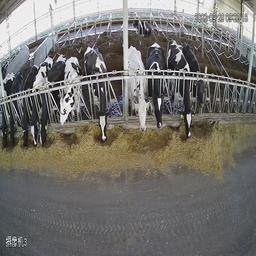cow: (83, 46, 112, 143), (166, 40, 194, 138), (127, 43, 149, 135), (39, 63, 60, 150), (60, 57, 79, 136), (149, 41, 166, 129), (190, 42, 208, 108), (28, 63, 39, 145), (0, 70, 11, 147), (20, 64, 30, 146), (10, 68, 20, 142), (128, 12, 152, 36)
